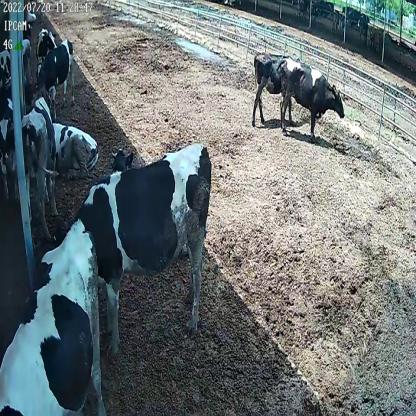cow: (65, 142, 212, 346), (18, 90, 59, 241), (279, 55, 346, 138), (252, 50, 295, 126), (34, 38, 75, 103), (35, 24, 56, 78)
